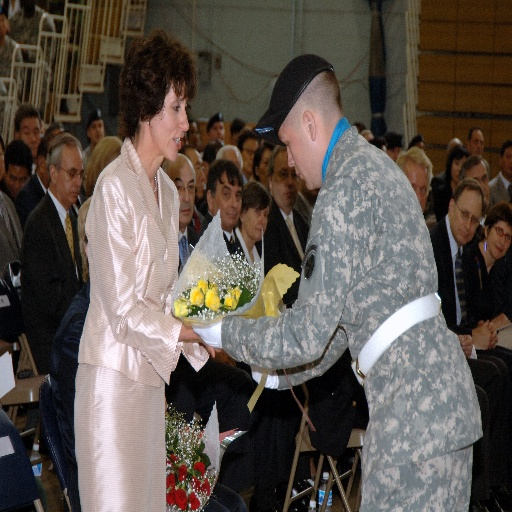hand: (192, 317, 222, 348), (248, 363, 278, 389), (470, 319, 492, 351), (478, 321, 499, 349), (195, 333, 221, 354), (459, 334, 472, 358), (493, 312, 511, 329)
